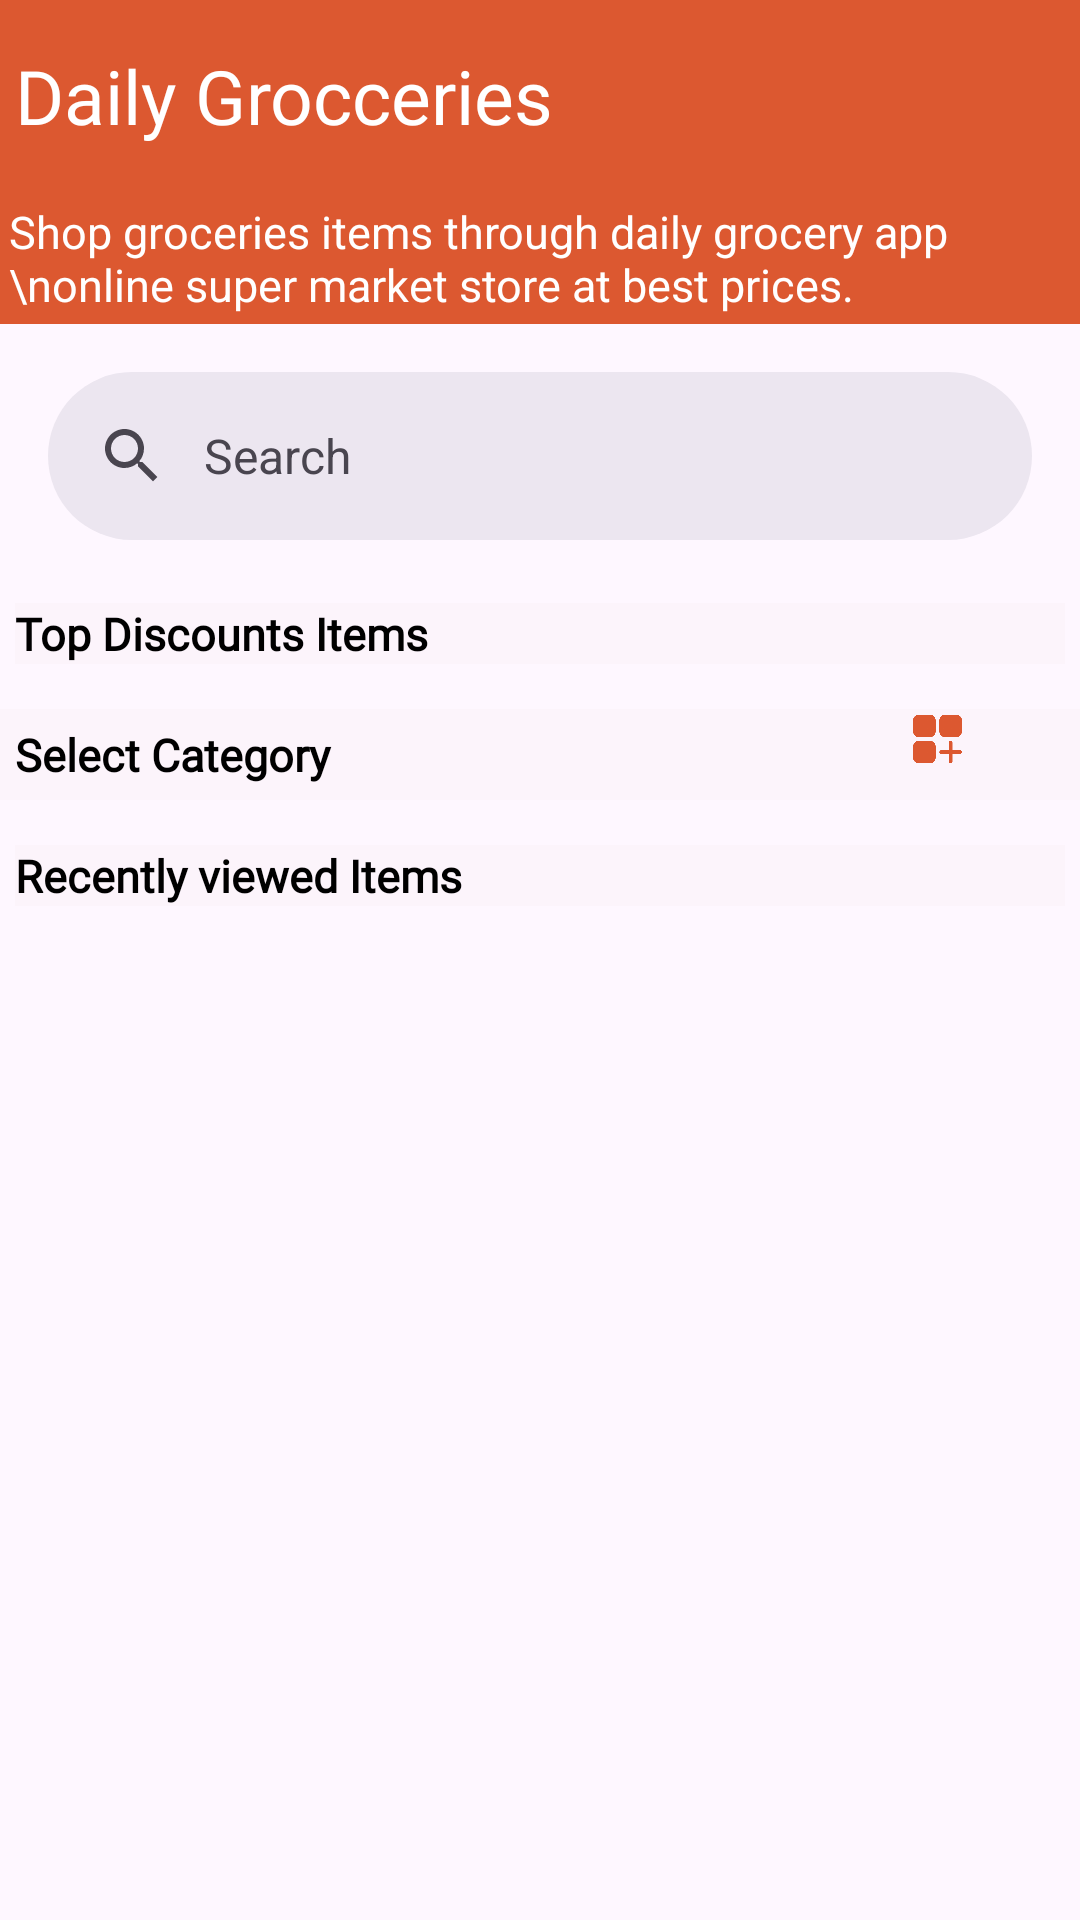

Icons on this 1080×1920 Android screen, each with the point to tap as point (x, y):
app: point (937, 739)
